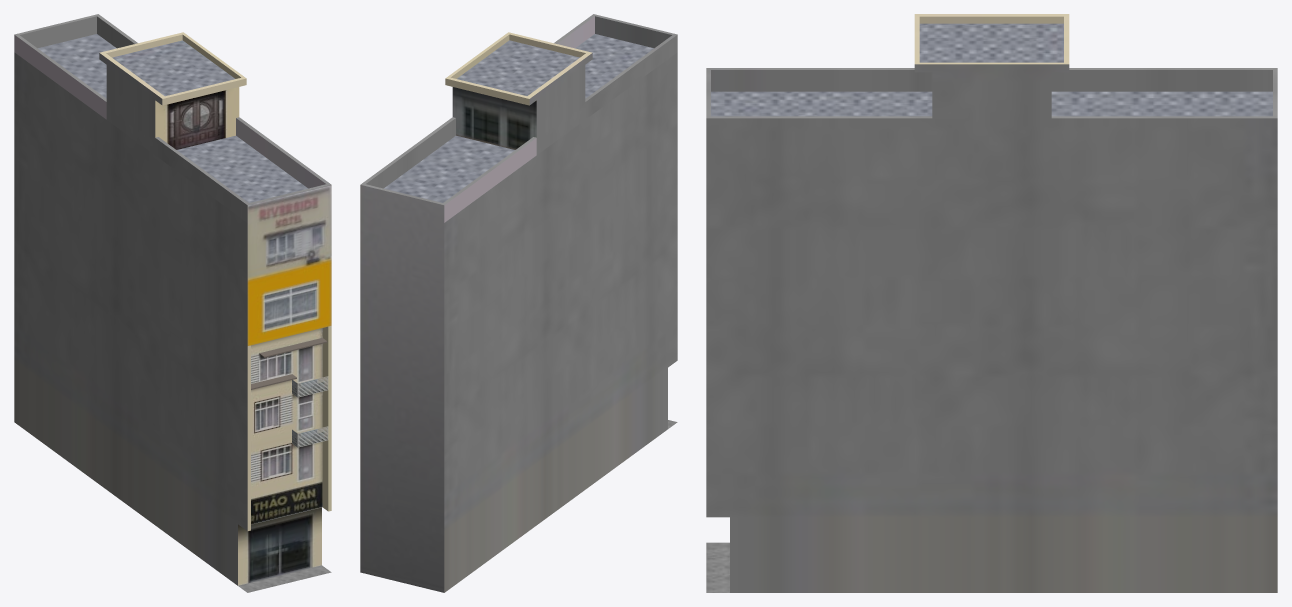
3 renders of one model, left to right at view 1: azimuth 30°, elevation 25°; view 2: azimuth 150°, elevation 25°; view 3: azimuth 270°, elevation 25°, orthographic. The views are drawn at different scales.
Visible parts, largest first — view 1: 5cd91fab3520bb46ec393963.001; view 2: 5cd91fab3520bb46ec393963.001; view 3: 5cd91fab3520bb46ec393963.001.
Part boxes in pixels (box(x1,y1,x2,y2)): 5cd91fab3520bb46ec393963.001: box(14, 14, 331, 592); 5cd91fab3520bb46ec393963.001: box(360, 14, 677, 592); 5cd91fab3520bb46ec393963.001: box(706, 14, 1277, 592).
Bounding box in the file's own units: 5 × 24.5 × 24.
1 material, 1 textured.
